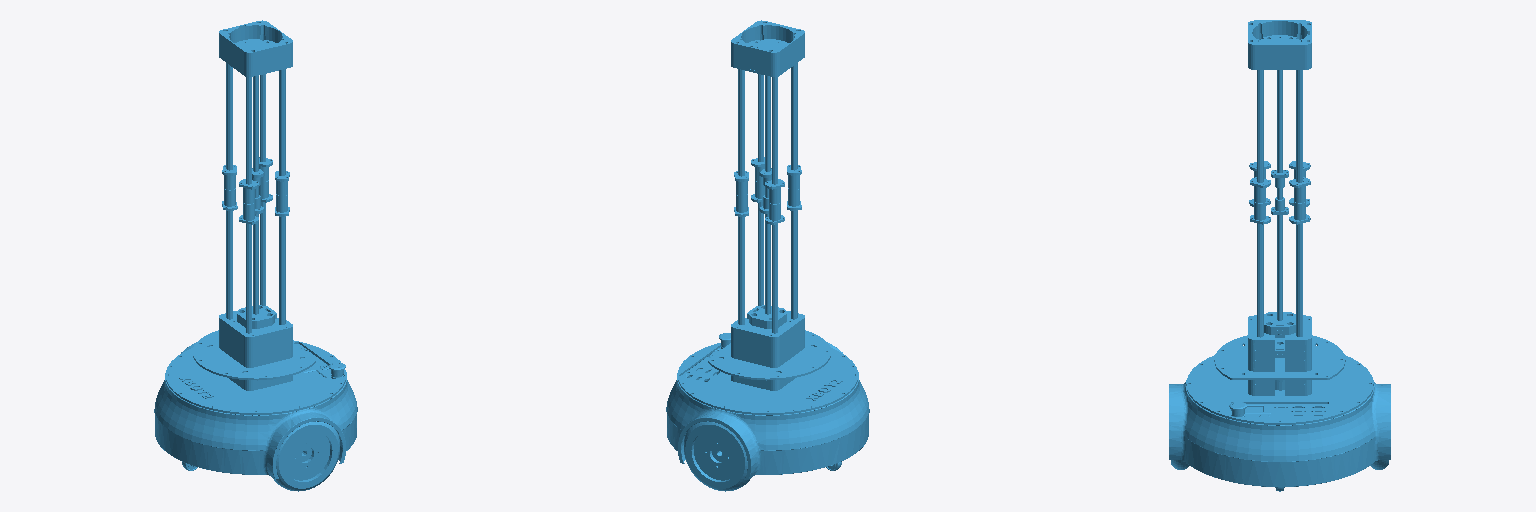
The robot description file, URDF, robot "xbot2":
<robot name="xbot2">

  <link name="base_footprint"/>
  <joint name="base_footprint_to_base" type="fixed">
    <axis rpy="0 0 0" xyz="0 0 0"/>
    <parent link="base_footprint"/>
    <child link="base_link"/>
    <origin rpy="0 0 0" xyz="0 0 0"/>
  </joint>

  <link name="base_link">
    <inertial>
      <origin  xyz="-0.0033678 -0.047443 0.62953" rpy="0 0 0" />
      <mass value="12.609" />
      <inertia ixx="0.82582" ixy="-0.0019603" ixz="-0.00043035" iyy="0.92115" iyz="0.0013243" izz="0.2601" />
    </inertial>
    <visual>
      <origin xyz="0 0 0" rpy="0 0 0" />
      <geometry>
        <mesh filename="package://xbot2_description/meshes/base_link.STL" />
      </geometry>
      <material name="">
        <texture filename="package://xbot2_description/meshes/black_felt.png" />
      </material>
      
    </visual>
    <collision>
      <origin xyz="0 0 0" rpy="0 0 0" />
      <geometry>
        <mesh filename="package://xbot2_description/meshes/base_link.STL" />
      </geometry>
    </collision>
  </link>
</robot>

--- Facts derived from the render (not from the file) ---
Views: 3 orthographic renders of the robot side by side, from view 1: azimuth 30°, elevation 25°; view 2: azimuth 150°, elevation 25°; view 3: azimuth 270°, elevation 25°.
Model xbot2 with 2 links and 1 joints (1 fixed), rooted at base_footprint, posed all joints at 0.
Visible links, largest first — view 1: base_link; view 2: base_link; view 3: base_link.
Link boxes in pixels (x1,y1,x2,y2): base_link: [154, 20, 357, 491]; base_link: [666, 20, 869, 491]; base_link: [1169, 20, 1390, 491].
Size in the robot's own frame: 0.476 by 0.502 by 1.08 metres.
Meshes: 1 distinct files referenced, 1 mesh visuals loaded (1 binary STL).